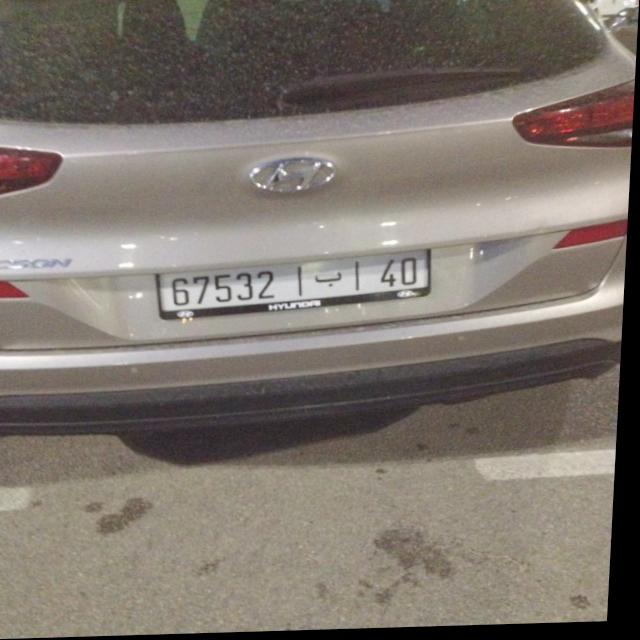License-Plate: (160, 252, 433, 321)
